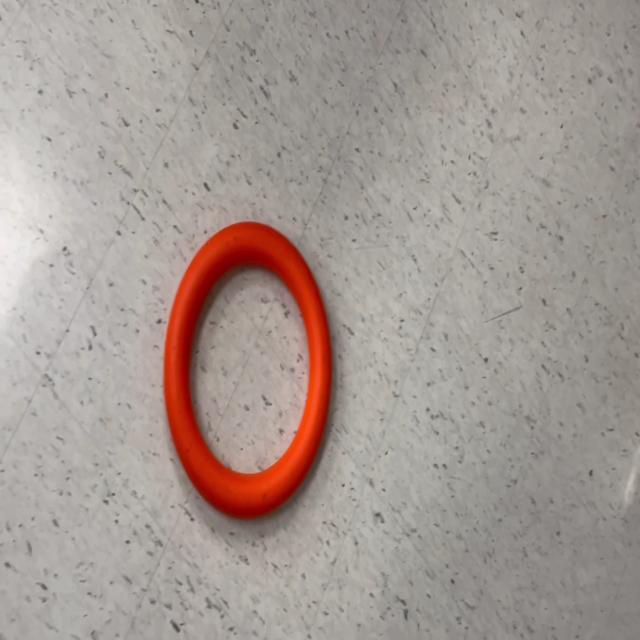note: (163, 221, 333, 521)
